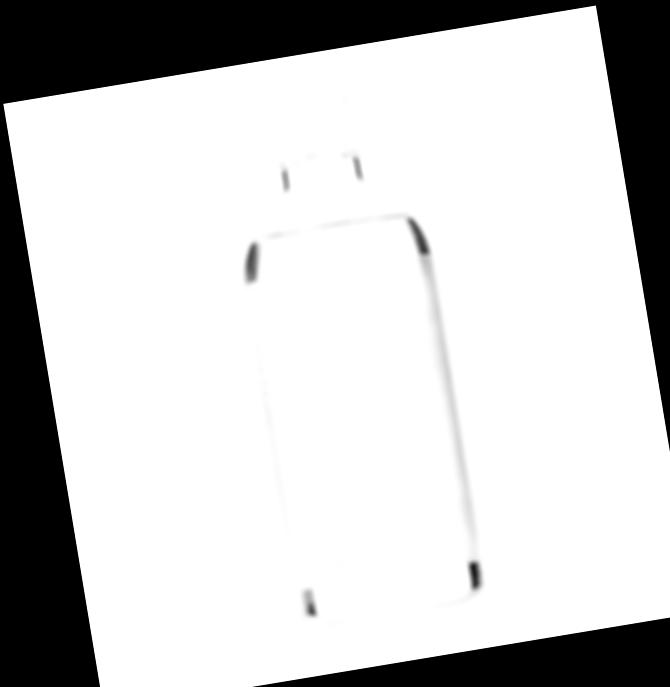cosmetic: (212, 73, 485, 626)
